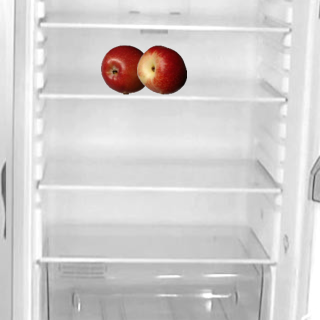Apple Braeburn: (100, 44, 150, 94)
Nectarine: (136, 44, 186, 94)
